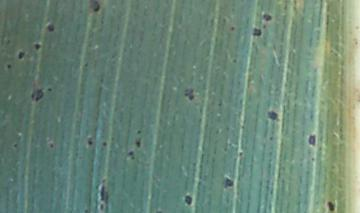tarspot: (29, 79, 45, 103), (97, 178, 110, 204), (264, 108, 280, 122), (182, 86, 196, 101), (87, 1, 101, 13), (222, 176, 233, 190), (250, 27, 263, 38), (306, 133, 316, 147), (326, 201, 336, 213), (126, 150, 136, 162), (183, 194, 193, 206), (261, 13, 272, 23), (134, 136, 143, 148), (17, 50, 27, 60), (46, 22, 55, 33), (33, 42, 42, 51), (85, 136, 93, 146), (100, 140, 108, 148), (237, 150, 244, 158), (83, 61, 90, 69), (353, 38, 360, 46), (353, 24, 360, 32), (99, 202, 104, 212), (261, 22, 267, 30), (217, 101, 223, 109), (5, 63, 12, 69), (135, 129, 142, 135), (231, 58, 238, 64), (48, 142, 54, 149), (11, 142, 18, 148), (5, 38, 11, 45), (46, 87, 52, 93), (229, 25, 235, 31), (268, 135, 274, 141), (310, 156, 315, 163), (83, 208, 90, 213)
